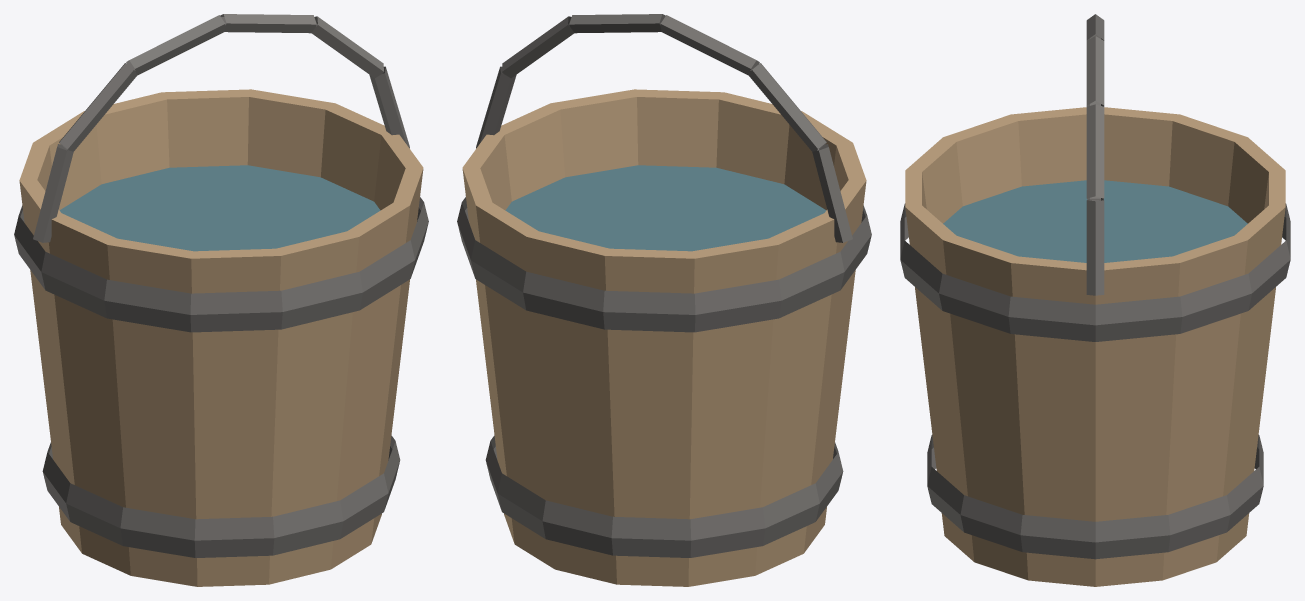
The model's file is prop-bucket-wood-wb1.fbx.
The picture shows the model from 3 angles, left to right: view 1: azimuth 30°, elevation 25°; view 2: azimuth 150°, elevation 25°; view 3: azimuth 270°, elevation 25°; orthographic projection. The views are drawn at different scales.
Visible parts, largest first — view 1: prop-bucket-wood-wb1; view 2: prop-bucket-wood-wb1; view 3: prop-bucket-wood-wb1.
Part boxes in pixels (box(x1,y1,x2,y2)): prop-bucket-wood-wb1: box(14, 14, 428, 586); prop-bucket-wood-wb1: box(457, 14, 871, 586); prop-bucket-wood-wb1: box(900, 14, 1290, 586).
Size of the model in its own units: 0.3654 by 0.4678 by 0.3403.
